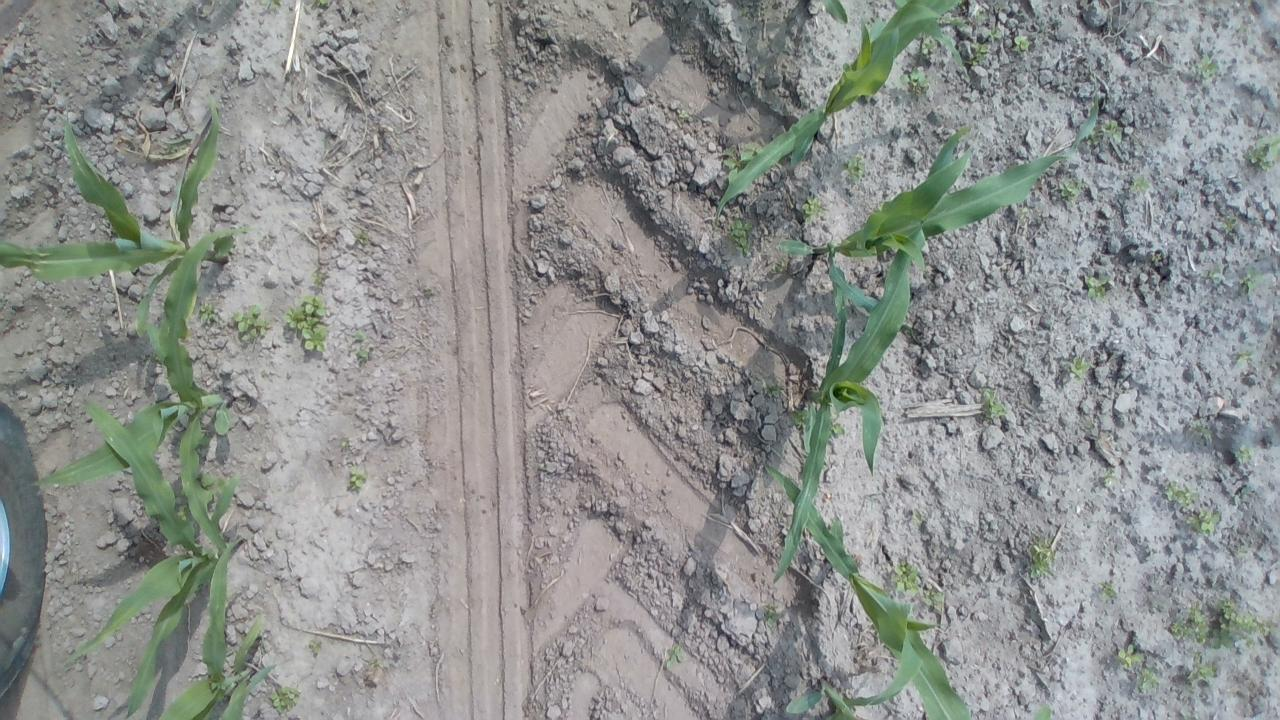Maize: (780, 89, 1099, 313), (33, 226, 262, 487), (714, 0, 965, 232), (0, 91, 230, 338), (760, 458, 976, 720), (62, 404, 240, 720), (771, 222, 925, 584), (156, 537, 275, 720), (785, 676, 903, 720), (822, 0, 848, 25), (1028, 704, 1054, 720)
Weeds: (1166, 595, 1276, 650), (284, 292, 328, 352), (228, 300, 273, 346), (1181, 652, 1217, 695), (1029, 530, 1056, 580), (890, 557, 923, 596), (1244, 134, 1278, 171), (1184, 507, 1220, 537), (1156, 478, 1200, 502), (1192, 52, 1222, 86), (898, 63, 932, 93), (269, 683, 303, 713), (978, 384, 1007, 418), (720, 142, 761, 166), (343, 330, 372, 363), (731, 216, 755, 255), (1092, 116, 1124, 144), (1115, 642, 1145, 671), (801, 192, 828, 224), (841, 154, 867, 184), (1086, 273, 1114, 300), (1068, 356, 1094, 383), (1239, 265, 1263, 294), (344, 465, 368, 492), (195, 300, 216, 328), (1139, 664, 1160, 691), (967, 42, 990, 66), (920, 587, 941, 611), (1232, 484, 1256, 505), (1060, 175, 1080, 200), (666, 644, 686, 668), (865, 485, 885, 509), (765, 604, 782, 632), (1187, 418, 1213, 435), (1204, 260, 1222, 284), (1131, 172, 1151, 192), (1099, 578, 1118, 599), (1236, 441, 1256, 460), (920, 36, 939, 56), (772, 258, 792, 276), (310, 268, 328, 288), (1014, 30, 1030, 52), (352, 229, 372, 246), (1236, 347, 1254, 365), (763, 380, 783, 396), (1223, 216, 1240, 234), (986, 26, 1006, 41), (259, 0, 281, 13), (969, 9, 988, 24), (791, 409, 806, 428), (1102, 470, 1118, 486), (308, 638, 324, 654), (200, 472, 216, 487), (1180, 706, 1196, 720), (1016, 206, 1030, 220), (369, 655, 381, 671), (423, 286, 436, 300), (176, 507, 188, 522), (832, 424, 846, 436), (676, 108, 690, 120), (914, 507, 923, 523), (338, 435, 349, 448), (1236, 548, 1250, 558), (1152, 253, 1162, 263), (316, 0, 332, 6), (739, 10, 748, 16)
